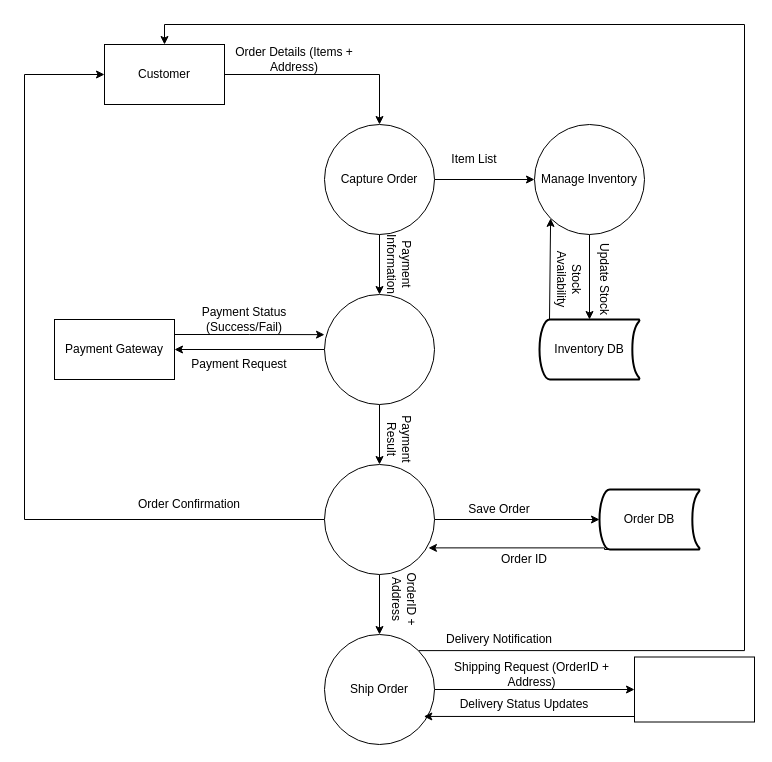
Some shapes in this 772 by 762 pixel diagram are drawn without their labels. The shapes that lost their labels are listed below. From the top down, each one's box as (x1, y1, x2, y2) in pixels, then its label:
(324, 294, 434, 404): Process Payment
(324, 464, 434, 574): Generate Order
(634, 656, 754, 722): Logistics Service
